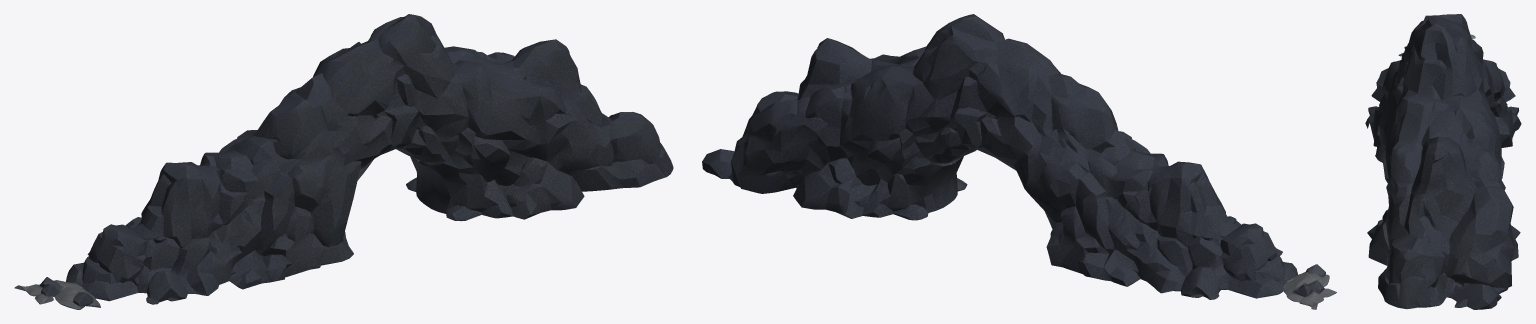
File: sea-arch.glb
3 renders of one model, left to right at view 1: azimuth 30°, elevation 25°; view 2: azimuth 150°, elevation 25°; view 3: azimuth 270°, elevation 25°, orthographic. The views are drawn at different scales.
Size of the model in its own units: 1.9 by 0.568 by 0.4575.
1 material, 1 textured.
